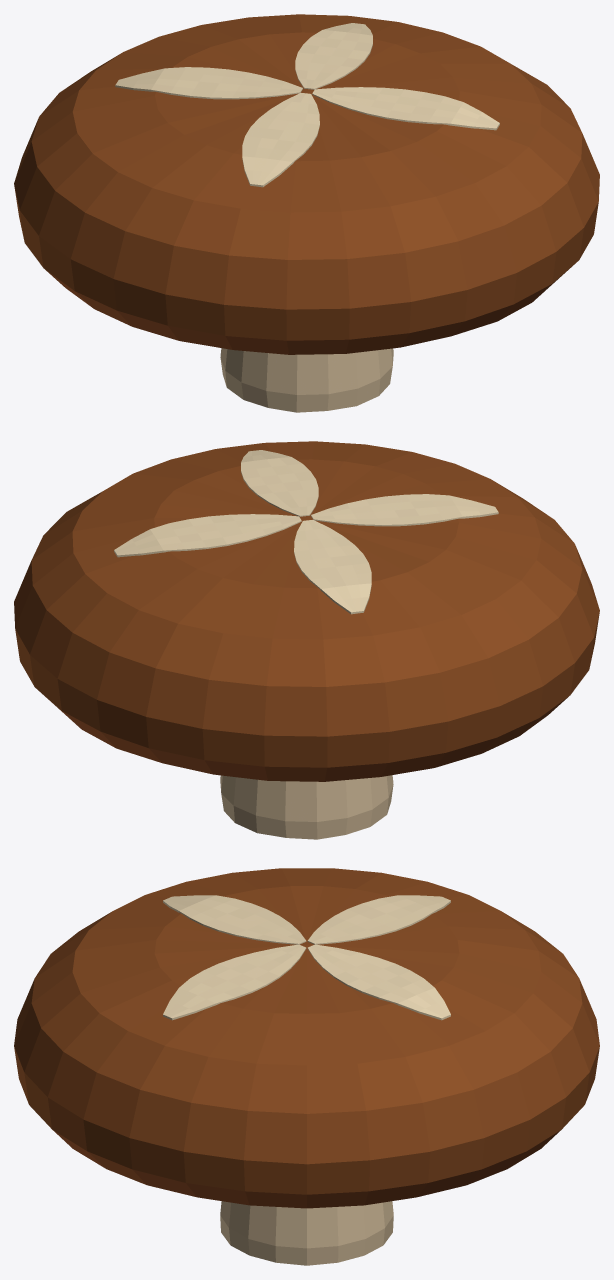
The model's file is shiitake.glb.
3 views of the same model, one above another, from view 1: azimuth 30°, elevation 25°; view 2: azimuth 150°, elevation 25°; view 3: azimuth 270°, elevation 25° (orthographic).
Visible parts, largest first — view 1: shiitake_cap, shiitake_cross_cut, shiitake_stem; view 2: shiitake_cap, shiitake_cross_cut, shiitake_stem; view 3: shiitake_cap, shiitake_cross_cut, shiitake_stem.
Boxes of the visible parts, x1=… form: shiitake_cap: x1=14, y1=14, x2=599, y2=354; shiitake_cross_cut: x1=115, y1=23, x2=499, y2=187; shiitake_stem: x1=220, y1=348, x2=393, y2=412; shiitake_cap: x1=14, y1=441, x2=599, y2=781; shiitake_cross_cut: x1=114, y1=450, x2=498, y2=614; shiitake_stem: x1=220, y1=775, x2=393, y2=839; shiitake_cap: x1=14, y1=868, x2=599, y2=1208; shiitake_cross_cut: x1=163, y1=895, x2=450, y2=1020; shiitake_stem: x1=220, y1=1201, x2=393, y2=1265.
Bounding box in the file's own units: 0.1197 × 0.0644 × 0.1198.
Materials: 1 (1 with a texture image).
